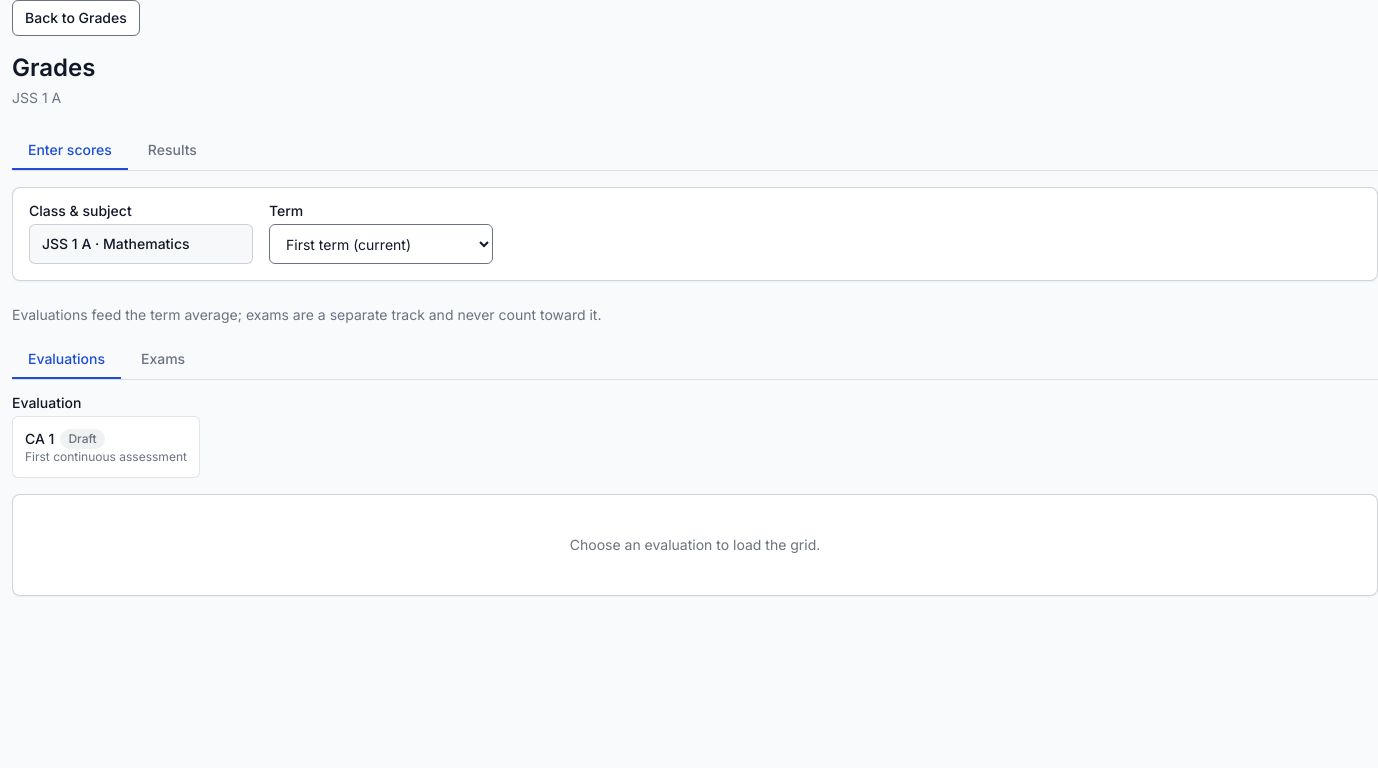
Test: ClassGradesPage — Enter scores tab › SCHOOL_ADMIN: shows the locked class+subject context, the evaluation list (not a dropdown), and loads the grid on selection
The width and height of the screenshot is (1378, 768).
Expected: the text "JSS 1 A · Mathematics" is shown, [29,224,253,264]
Expected: the text "First continuous assessment" is shown, [25,449,187,465]
Step 1. Click the button "CA 1 Draft First continuous assessment" → point(106, 447), box [12,416,200,478]
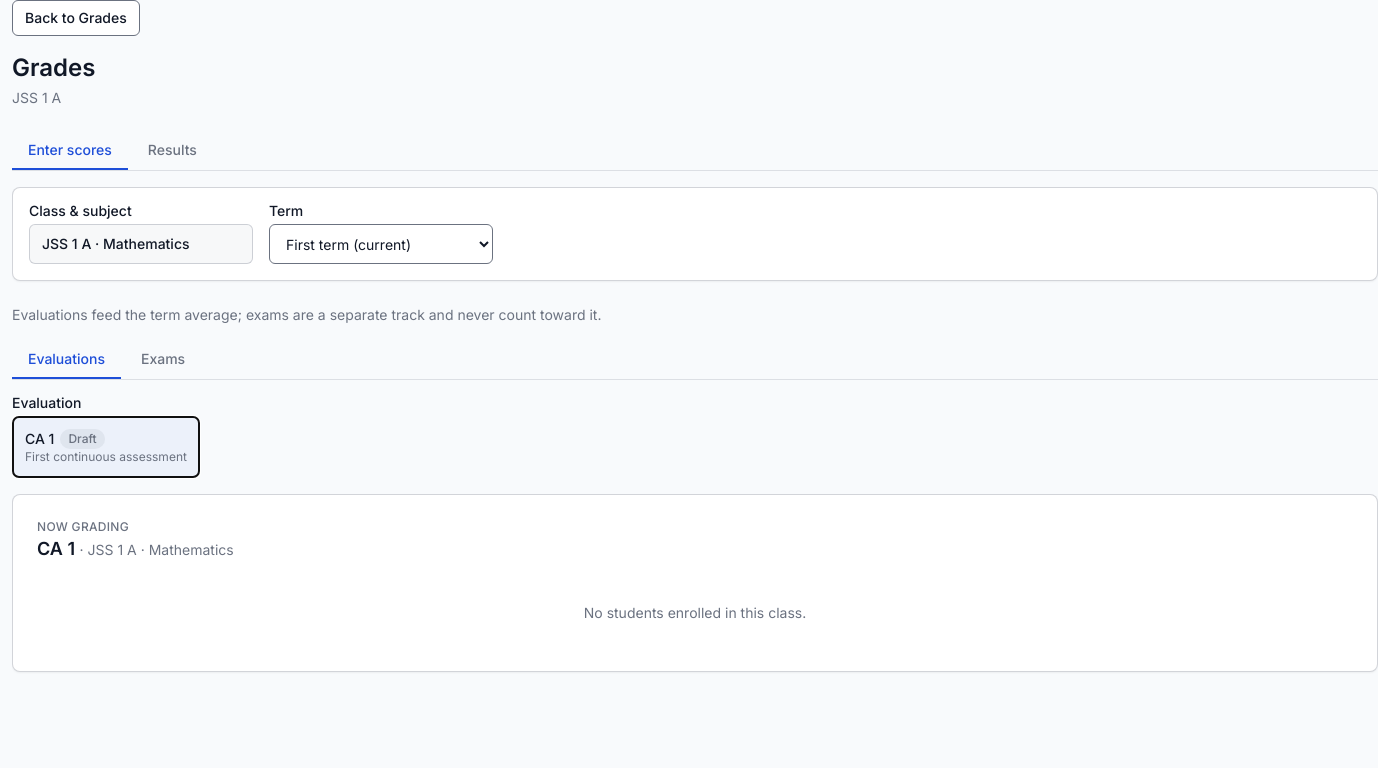
Expected: the text "No students enrolled in this class." is shown, [584,603,806,623]
